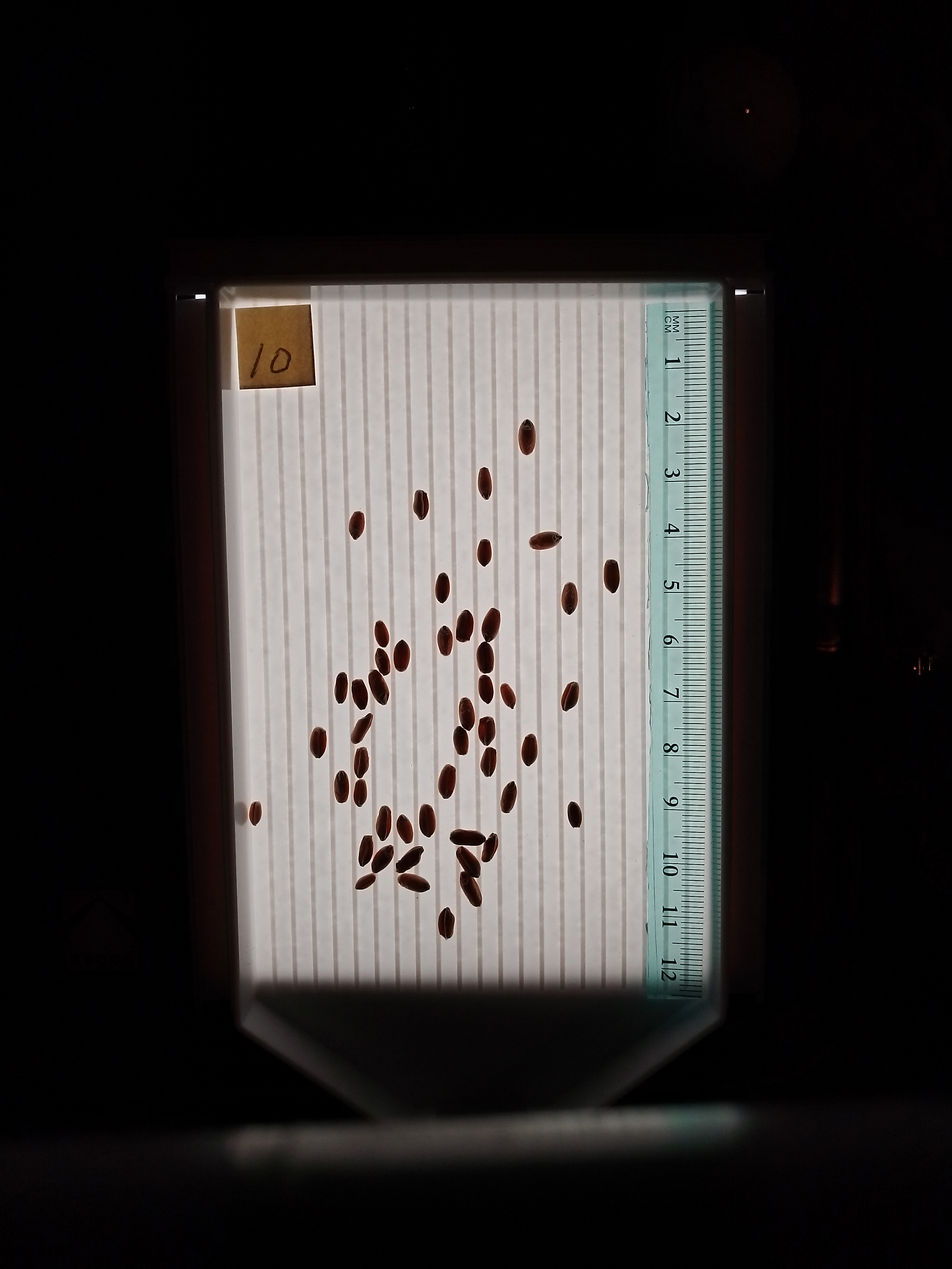seed mask: (398, 872, 430, 893), (457, 848, 480, 877), (450, 829, 485, 848), (518, 419, 536, 455), (369, 671, 388, 705), (461, 874, 481, 906), (397, 847, 422, 872), (351, 714, 372, 743), (530, 531, 561, 550), (372, 846, 393, 873), (439, 765, 456, 798), (603, 560, 620, 593), (482, 608, 500, 639), (419, 804, 436, 836), (561, 583, 578, 615), (376, 806, 392, 839), (310, 727, 327, 758), (456, 611, 473, 642), (459, 698, 475, 730), (393, 641, 410, 671), (561, 683, 579, 711), (358, 835, 374, 866), (521, 735, 537, 766), (396, 814, 413, 843), (352, 679, 368, 709), (501, 782, 517, 812), (477, 643, 493, 673), (413, 490, 429, 519), (478, 717, 495, 744), (354, 747, 369, 777), (334, 772, 349, 802), (439, 909, 454, 939), (481, 748, 497, 776), (482, 834, 498, 861), (478, 675, 493, 703), (435, 574, 450, 602), (478, 468, 492, 498), (453, 727, 468, 754), (438, 627, 453, 654), (349, 512, 364, 539), (374, 621, 389, 647), (567, 802, 582, 828), (500, 684, 516, 708), (335, 674, 348, 703), (375, 650, 390, 675), (477, 540, 491, 565), (354, 780, 367, 806), (356, 874, 375, 891), (248, 802, 262, 825)
